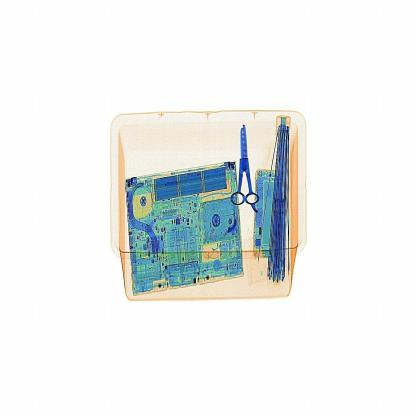gun: (218, 116, 264, 215)
